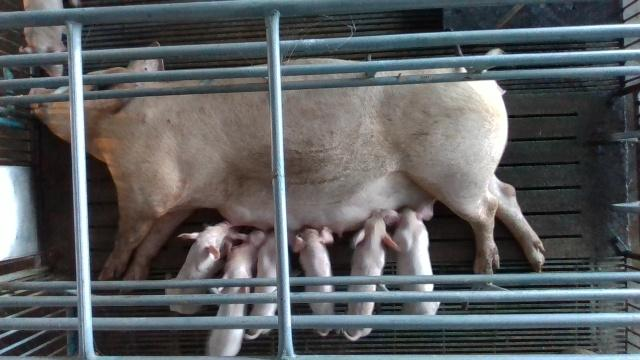piglet: (342, 213, 403, 341), (382, 197, 440, 314), (166, 221, 233, 314), (207, 246, 250, 356), (293, 226, 335, 336), (19, 0, 66, 78), (248, 231, 278, 338)
sow-sleep-lactate: (27, 40, 546, 294)
